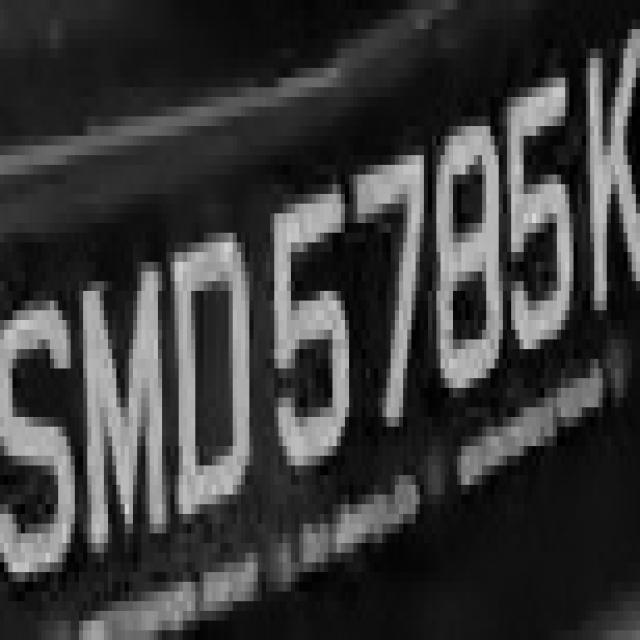5: (494, 39, 574, 398), (274, 174, 354, 485)
7: (337, 146, 428, 466)
8: (424, 78, 507, 417)
D: (162, 223, 249, 562)
K: (4, 0, 4, 6)
M: (67, 242, 166, 562)
S: (4, 262, 87, 601)
